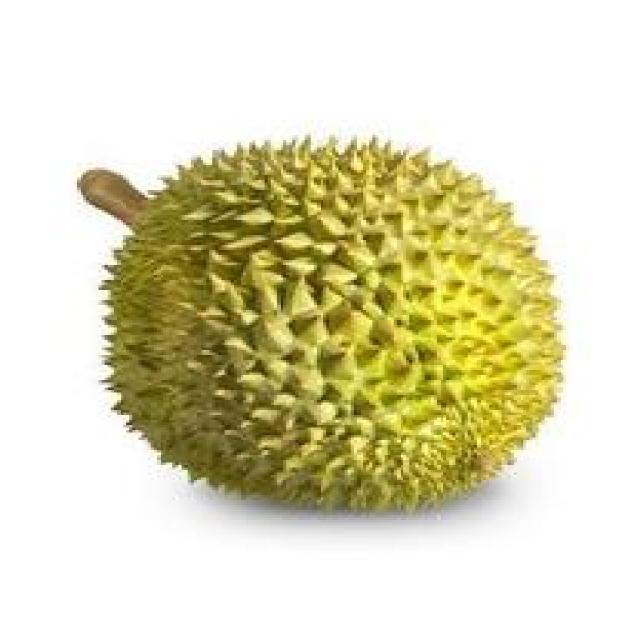fruit: (68, 142, 409, 562), (289, 118, 600, 560)
